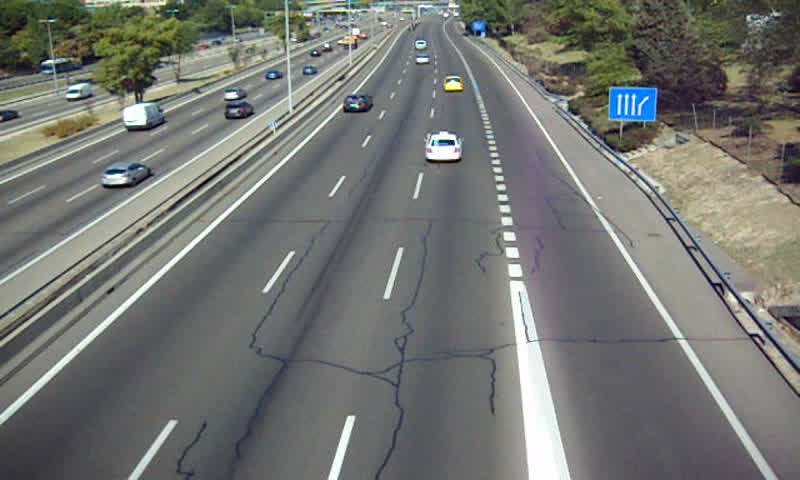car: (427, 133, 463, 162), (344, 94, 374, 113), (443, 75, 463, 92), (414, 53, 431, 66)
